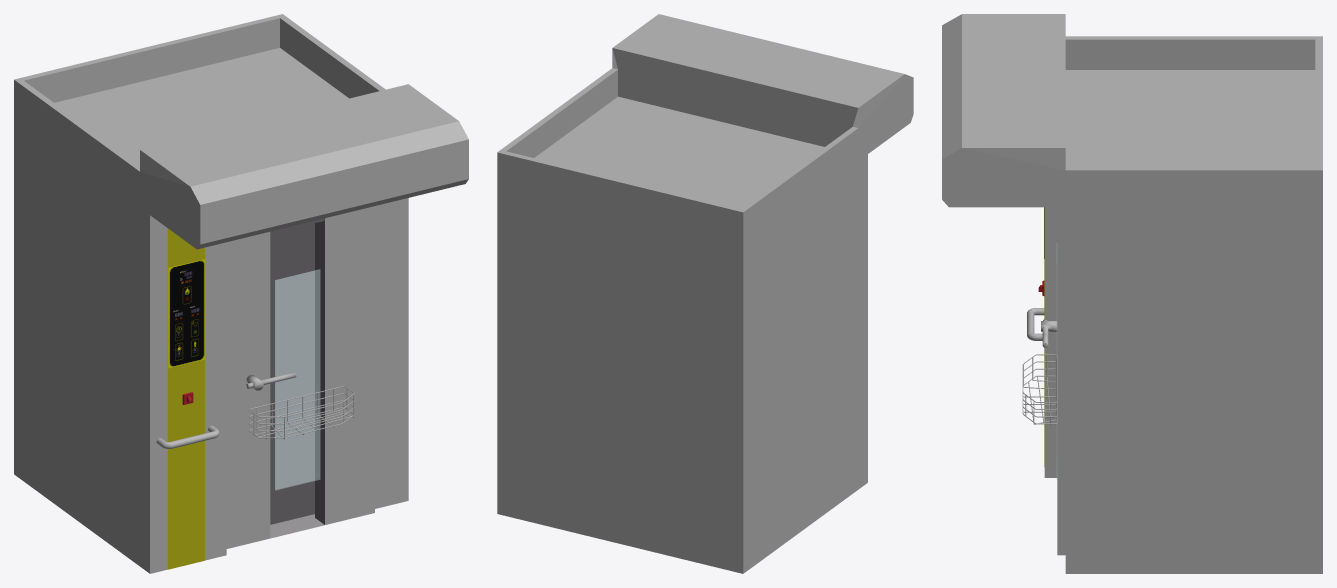
File: ESV 2.glb
3 views of the same model, side by side, from view 1: azimuth 30°, elevation 25°; view 2: azimuth 150°, elevation 25°; view 3: azimuth 270°, elevation 25° (orthographic). The views are drawn at different scales.
Parts seen in each view (by area): view 1: Cuerpo.001, Puerta, Cristal, LAMINA AMARILLA CUADRO, Cristal negro, caratula esv2, CANASTILLA; view 2: Cuerpo.001; view 3: Cuerpo.001, Puerta, CANASTILLA.
Part boxes in pixels (box(x1,y1,x2,y2)): Cuerpo.001: box(14, 14, 468, 573); Puerta: box(226, 206, 374, 548); Cristal: box(275, 269, 320, 490); LAMINA AMARILLA CUADRO: box(167, 228, 204, 569); Cristal negro: box(270, 218, 324, 537); caratula esv2: box(168, 259, 205, 368); CANASTILLA: box(249, 386, 354, 439); Cuerpo.001: box(497, 14, 913, 573); Cuerpo.001: box(942, 14, 1322, 573); Puerta: box(1057, 207, 1065, 555); CANASTILLA: box(1022, 354, 1057, 425).
Bounding box in the file's own units: 1.72 × 2.55 × 2.07.
Materials: 7 (1 with a texture image).
